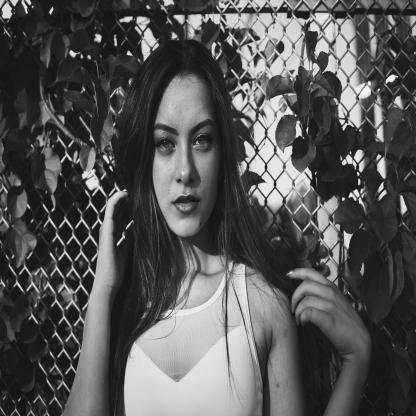Eye: (190, 128, 214, 154), (153, 135, 181, 156)
Mouth: (170, 192, 200, 216)
Nose: (173, 141, 196, 185)
